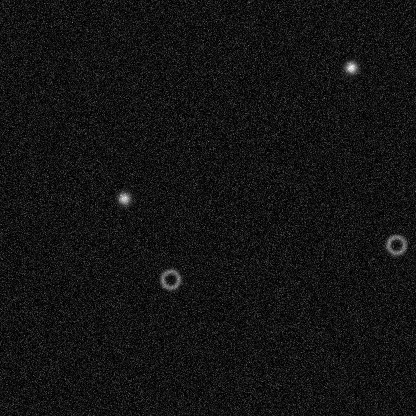Ring: (158, 267, 182, 291), (384, 232, 408, 256)
Spot: (116, 190, 132, 206), (342, 59, 358, 75)
